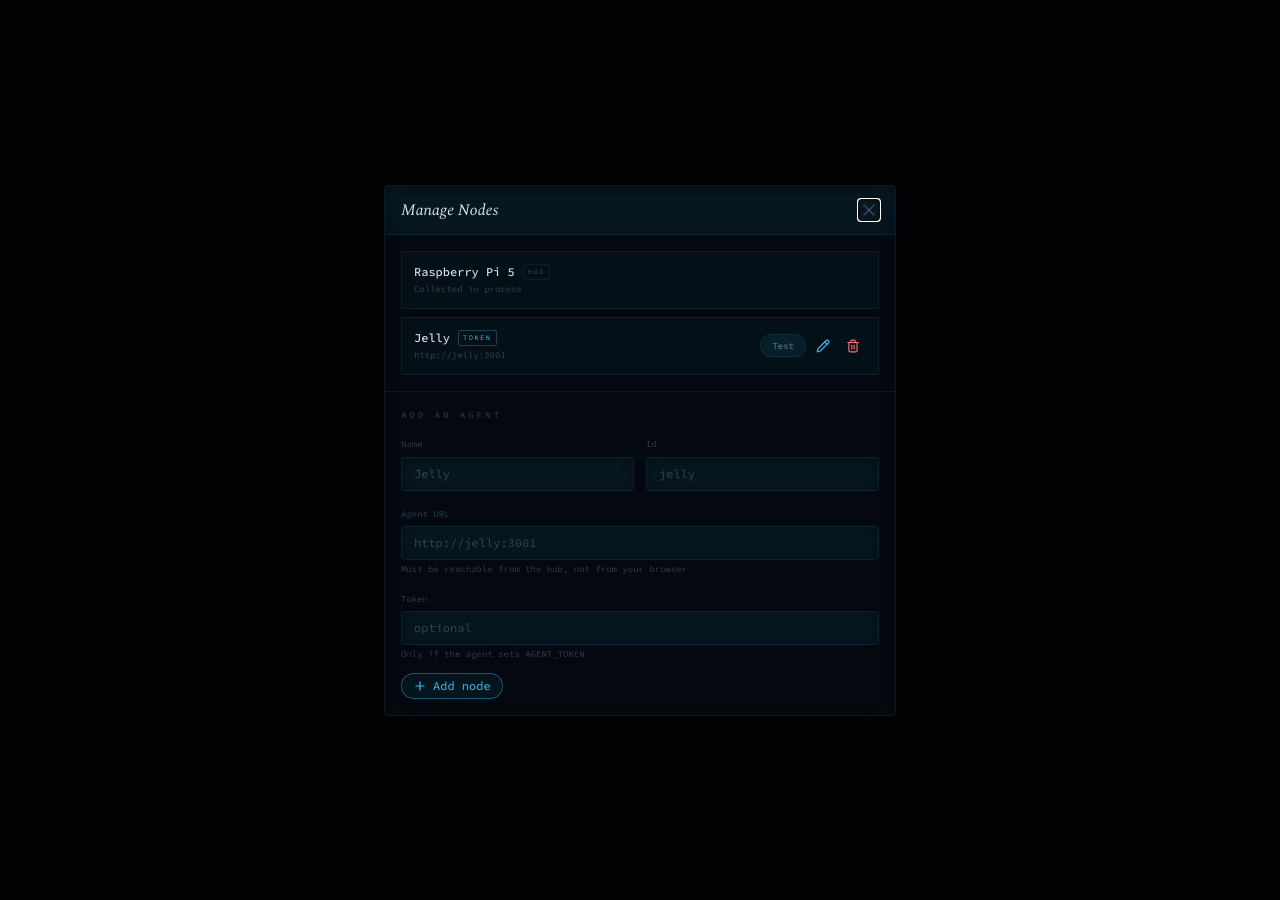
it: adding › rejects a non-http scheme before submitting
In the field with placeholder "Jelly": coordinates (518, 474) [401,456,634,490], type "NAS"
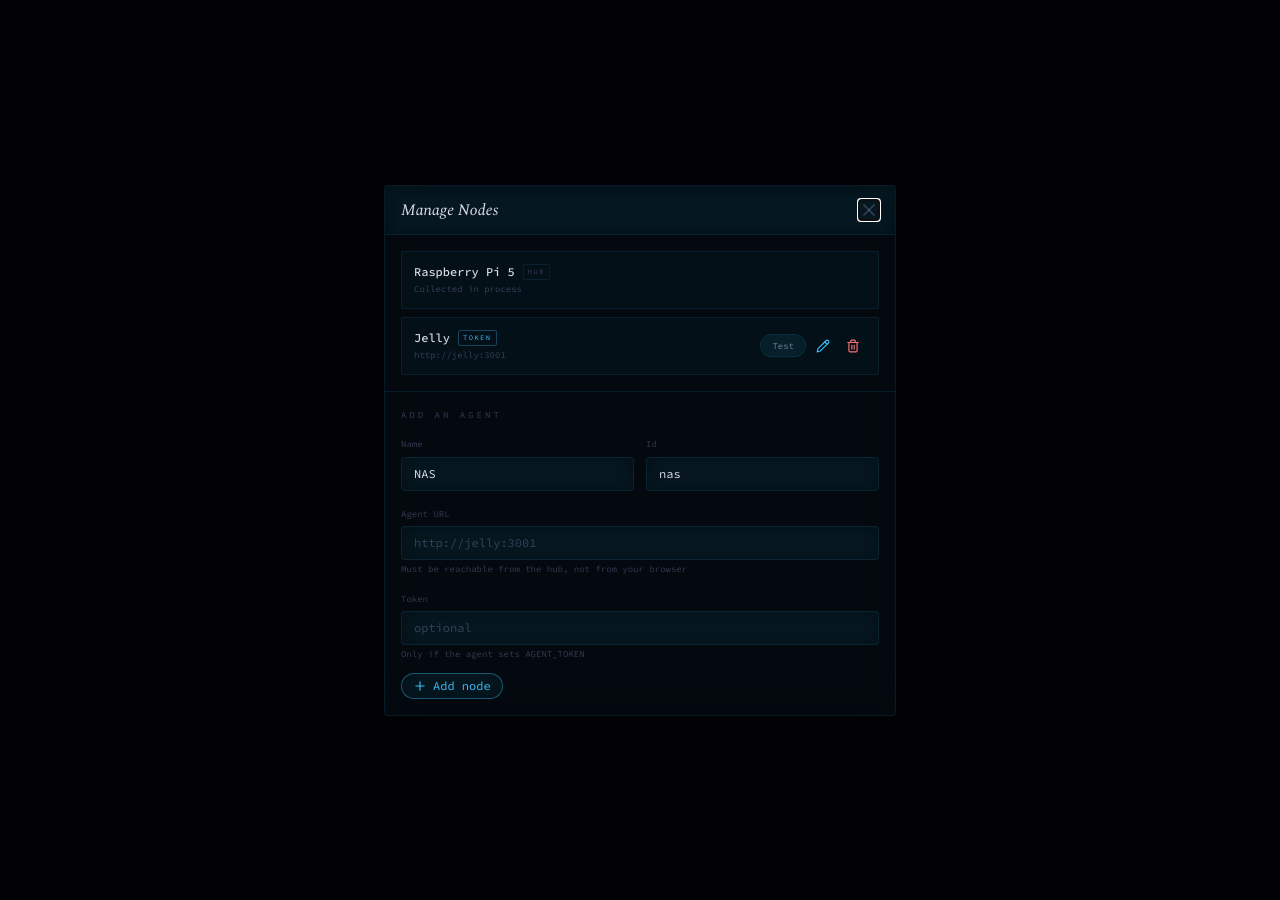
In the field with placeholder "http://jelly:3001": coordinates (640, 543) [401,526,879,560], type "nas:3001"
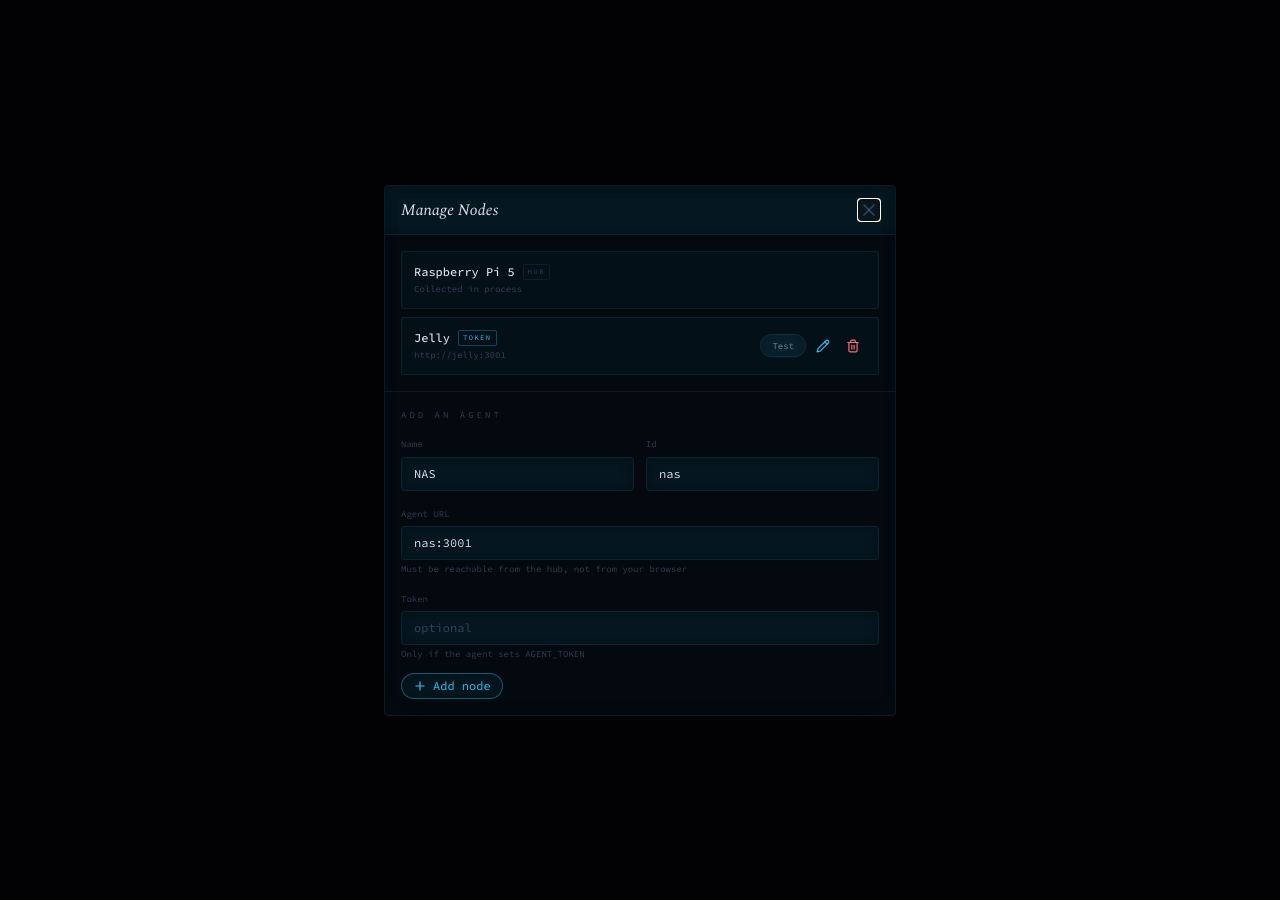
Click the button "Add node": coordinates (452, 686) [401,672,503,698]
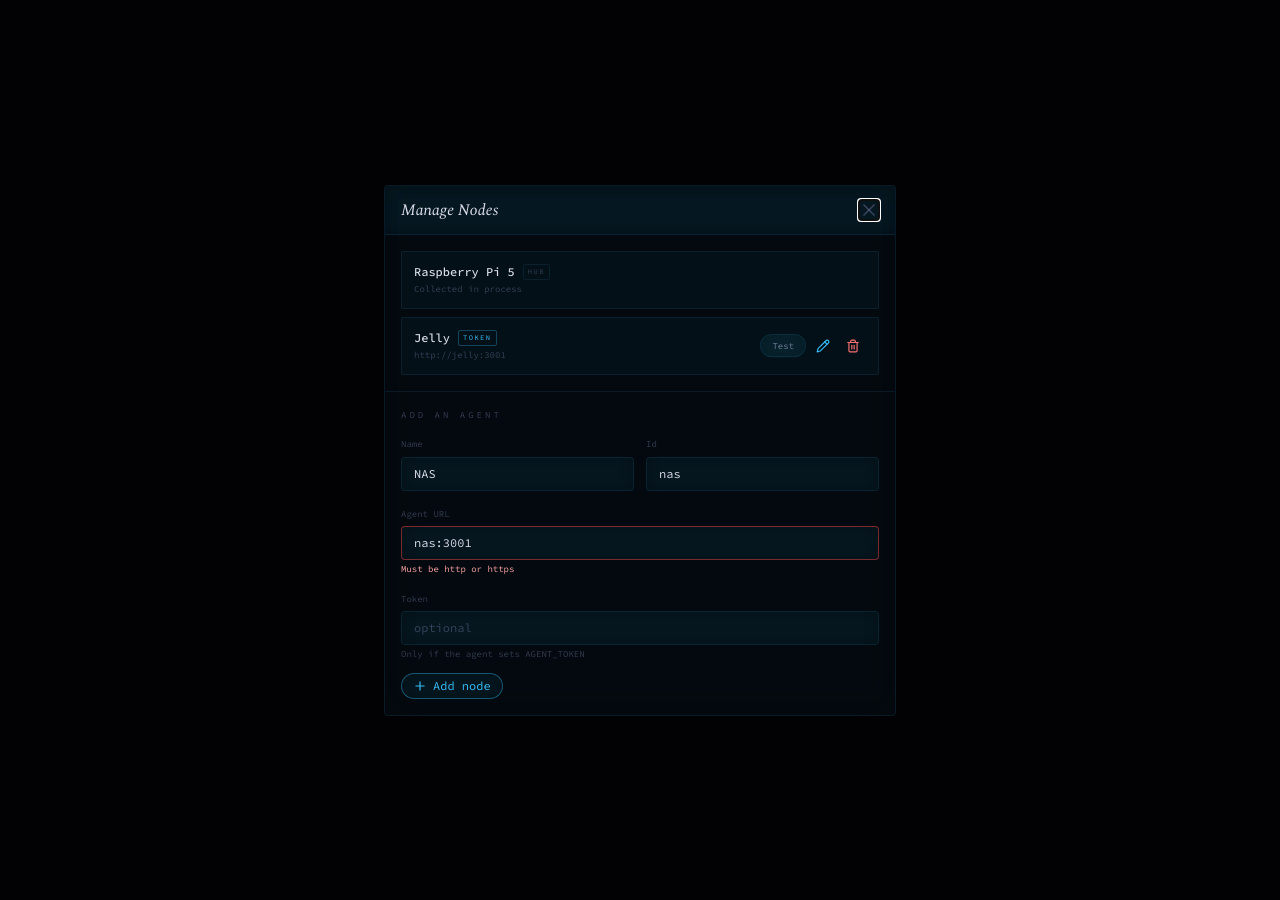
Now the text "Must be http or https" is shown, box [401,563,514,574]
